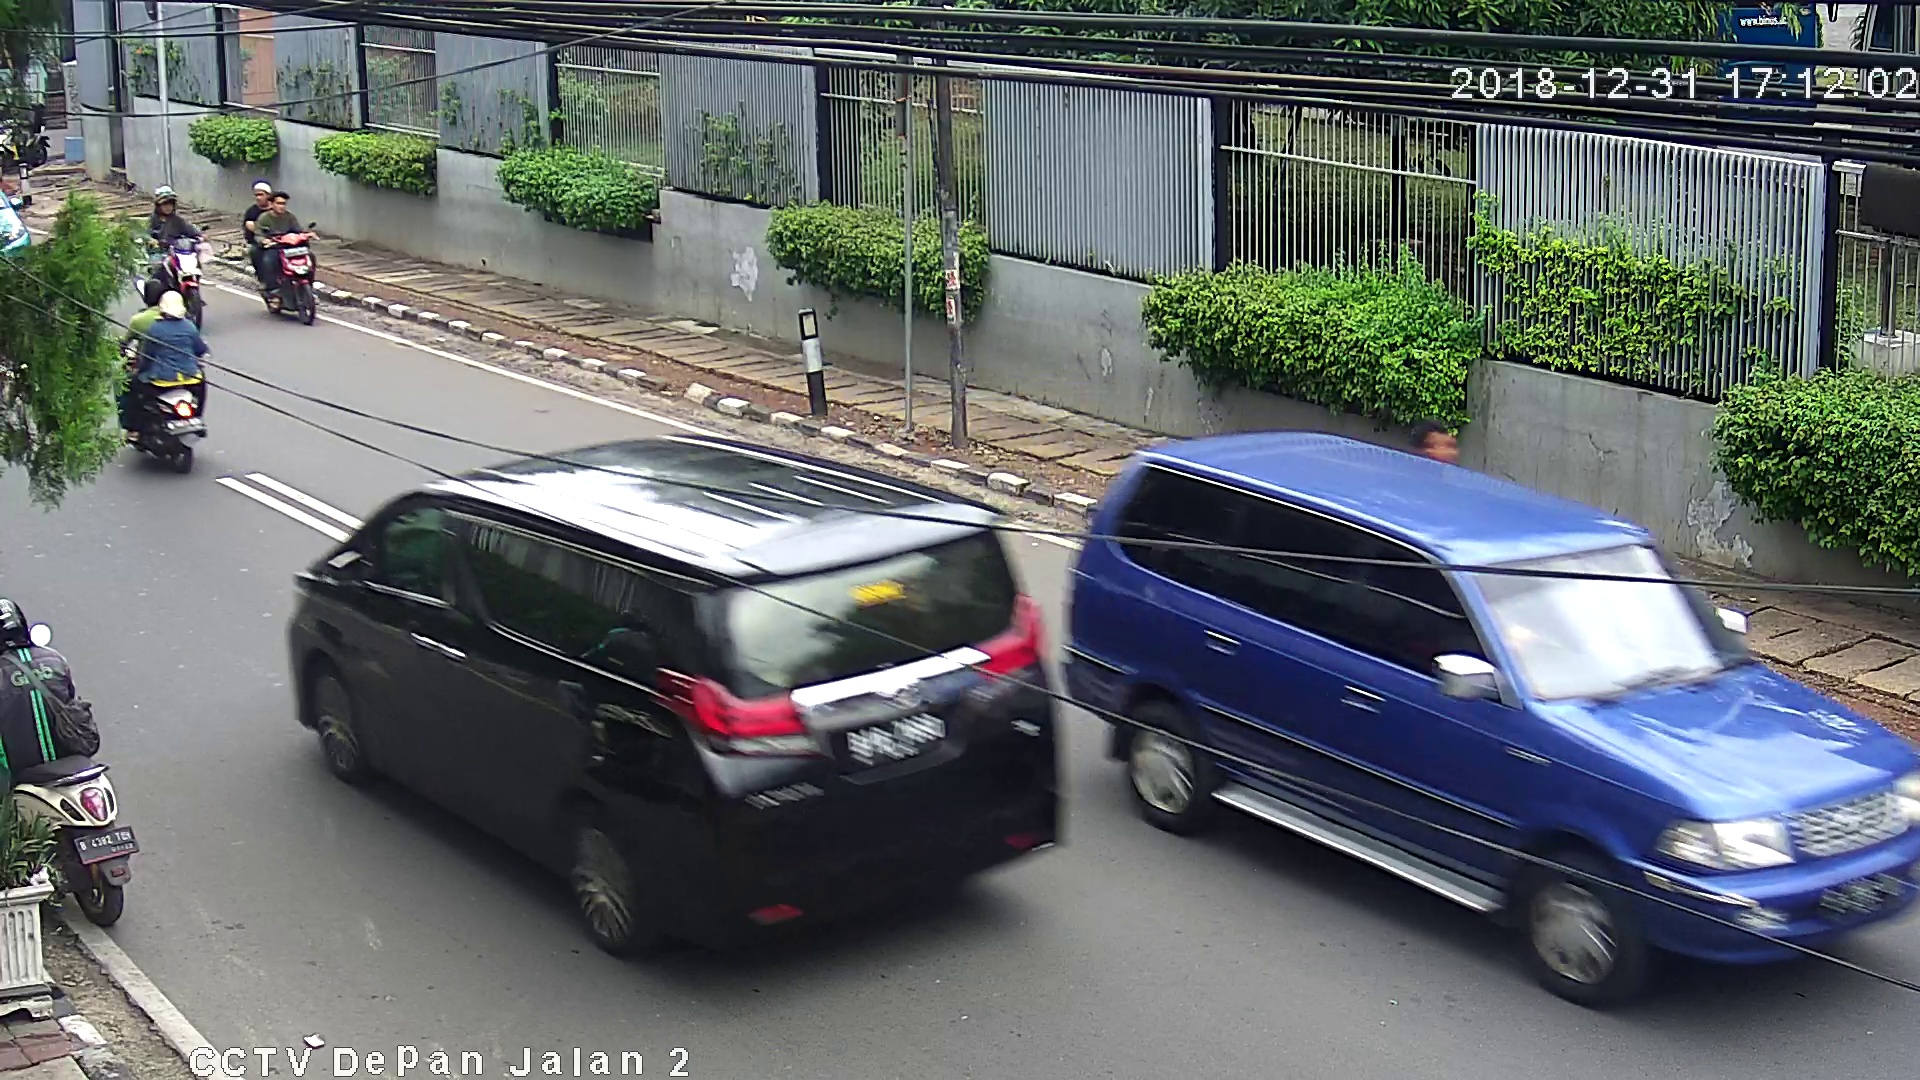car: (1058, 425, 1920, 1009), (285, 433, 1067, 957)
motorcycle: (1, 597, 150, 938), (107, 276, 214, 472), (237, 174, 328, 327), (125, 181, 214, 284)
